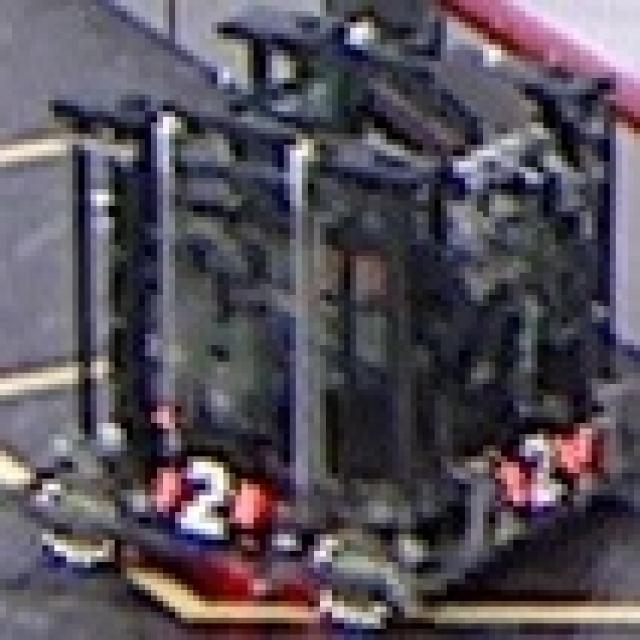R2: (151, 451, 260, 540), (495, 423, 580, 506)
